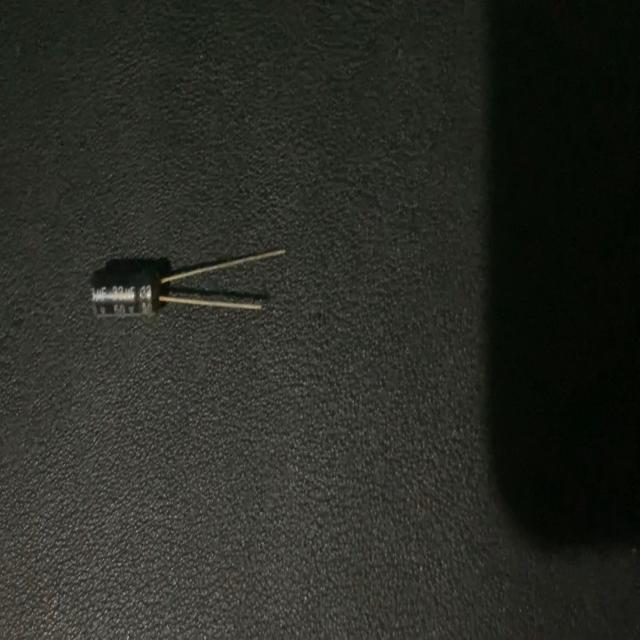capacitor: (90, 249, 288, 321)
